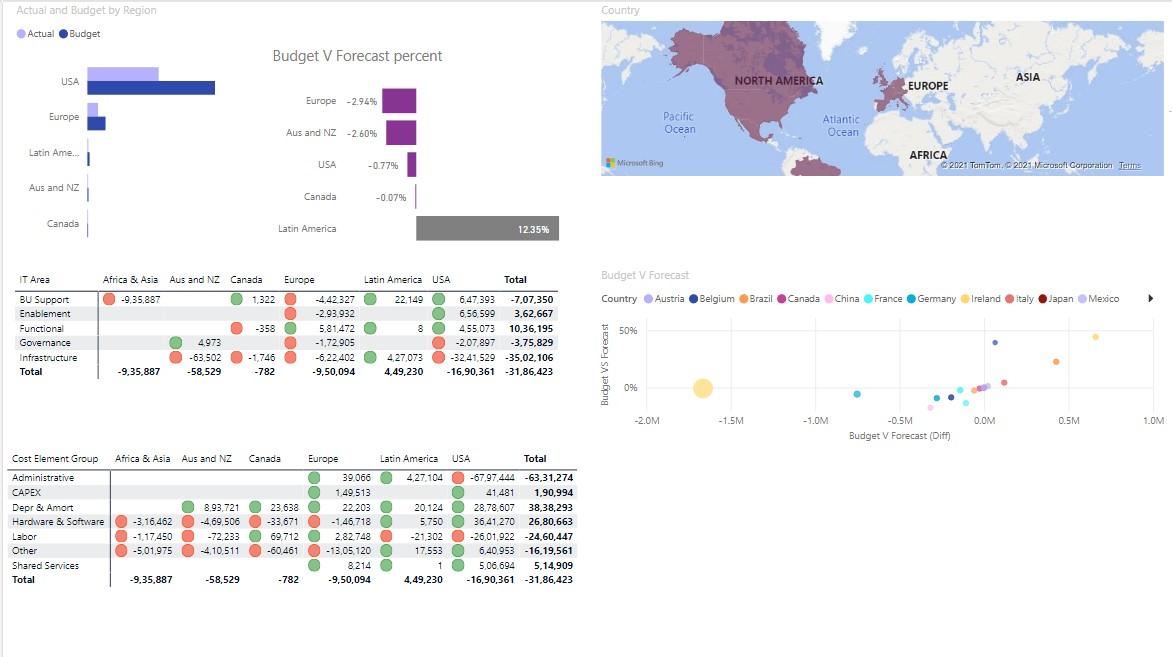

This screenshot's page, from the dashboard's own definition file:
{"tool":"powerbi","page":{"name":"Regions","canvas":[1280,720],"ordinal":1},"visuals":[{"type":"clusteredBarChart","fields":{"Category":["Regions.Region"],"Y":["Sum(Actuals.Actual)","Sum(Budget.Budget)"]},"box":[10,0,280,280],"z":0},{"type":"clusteredBarChart","title":"Budget V Forecast percent","fields":{"Category":["Regions.Region"],"Y":["Budget.Budget VS Forecast"]},"box":[290.6,47.1,369.1,235.6],"z":1000},{"type":"pivotTable","fields":{"Rows":["Departments.IT Area"],"Columns":["Regions.Region"],"Values":["Budget.Budget V Forecast (Diff)"]},"box":[8.2,291.2,631.8,196.4],"z":2000},{"type":"pivotTable","fields":{"Rows":["CostElements.Cost Element Group"],"Columns":["Regions.Region"],"Values":["Budget.Budget V Forecast (Diff)"]},"box":[0,487.6,640,232.1],"z":3000},{"type":"filledMap","fields":{"Category":["Budget.Country"]},"box":[651.8,0,628.2,196.3],"z":3001},{"type":"scatterChart","title":"Budget V Forecast","fields":{"Series":["Regions.Country"],"X":["Budget.Budget V Forecast (Diff)"],"Y":["Budget.Budget VS Forecast"],"Size":["Sum(Forecast.Forecast)"]},"box":[652,291,628,196],"z":3002}]}

Visuals, with their boxes in screenshot pixels (x1, y1, x2, y2), scaled from the page's 1280x720 canvas onto the 1172x657 screenshot:
clusteredBarChart - Regions.Region x Sum(Actuals.Actual): {"x1": 9, "y1": 0, "x2": 266, "y2": 256}
"Budget V Forecast percent" clusteredBarChart: {"x1": 266, "y1": 43, "x2": 604, "y2": 258}
pivotTable - Departments.IT Area x Regions.Region: {"x1": 8, "y1": 266, "x2": 586, "y2": 445}
pivotTable - CostElements.Cost Element Group x Regions.Region: {"x1": 0, "y1": 445, "x2": 586, "y2": 656}
filledMap - Budget.Country: {"x1": 597, "y1": 0, "x2": 1171, "y2": 179}
"Budget V Forecast" scatterChart: {"x1": 597, "y1": 266, "x2": 1171, "y2": 444}
